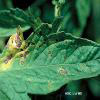Tomato Early blight leaf: (0, 26, 99, 92)
